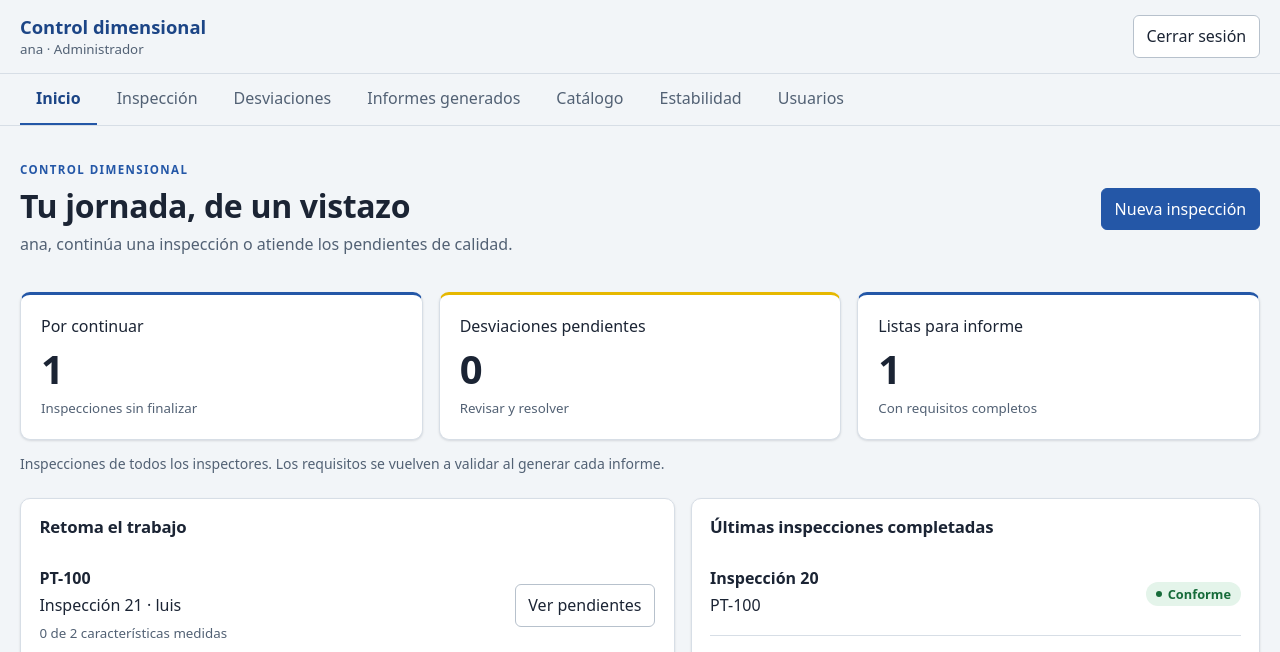
shows the generated-reports tab to authenticated admin users
Click the tab "Informes generados" at (444, 100), box [351, 74, 536, 126]
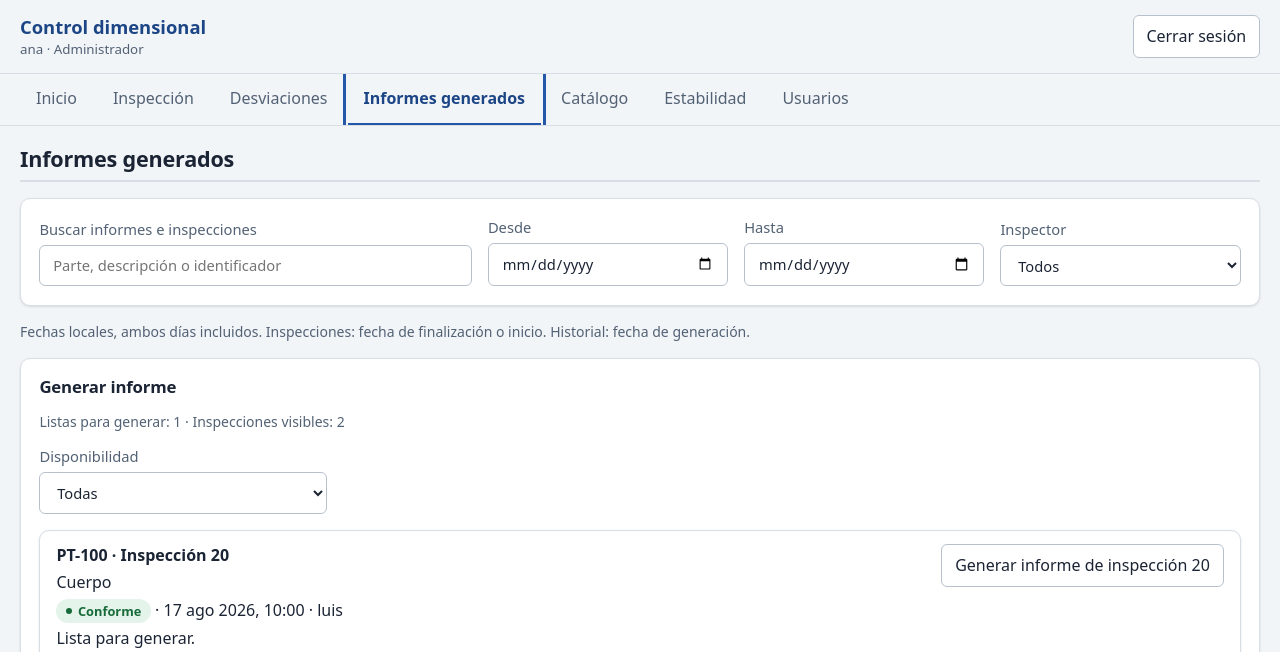
expect the heading "Informes generados" is shown: met, box [20, 146, 1260, 182]
